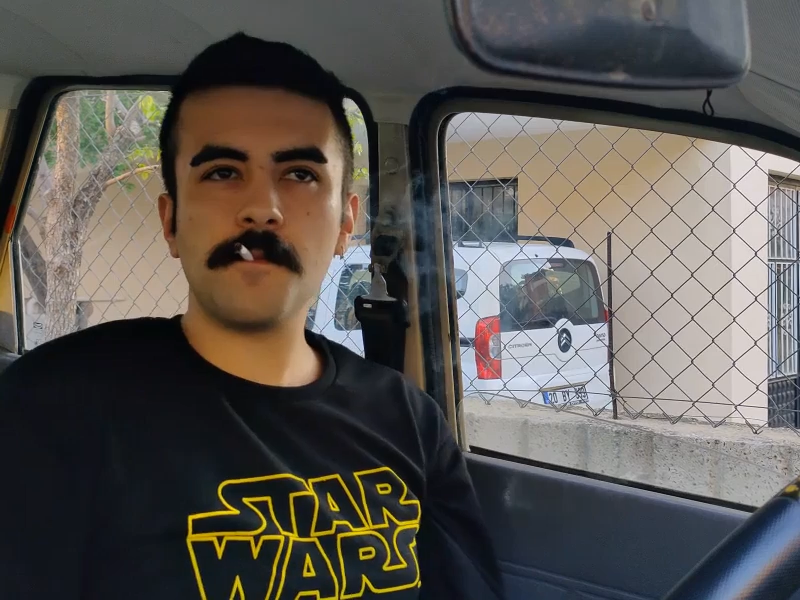sigara: (232, 242, 256, 263)
